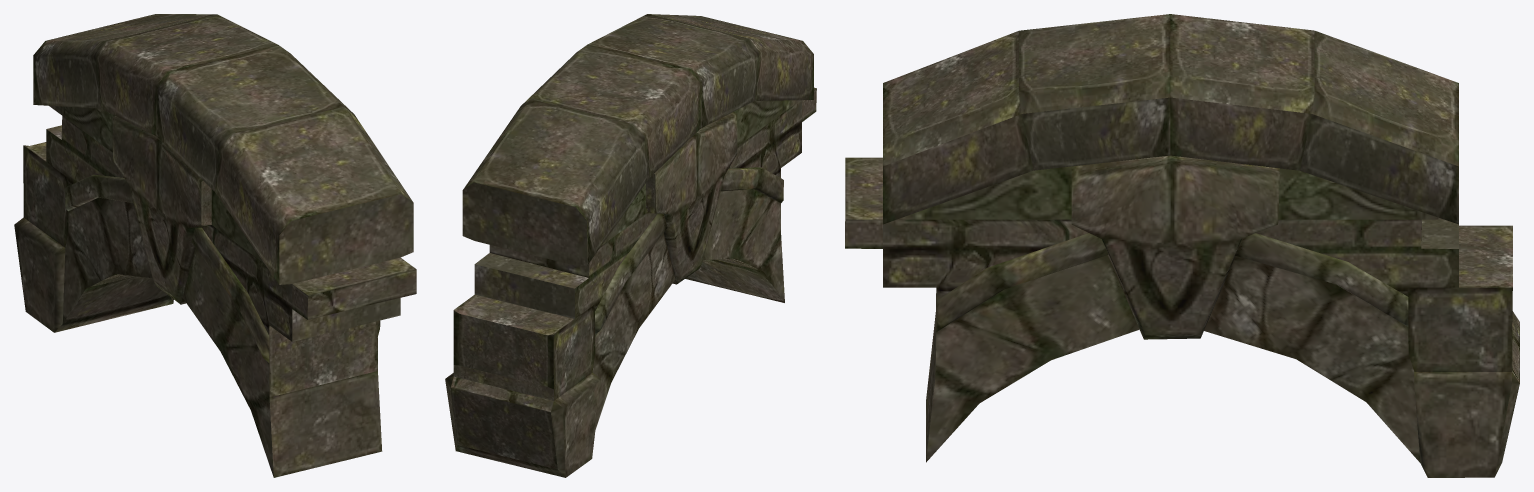
The model's file is Arch_Alley_09-transformed.glb.
3 renders of one model, left to right at view 1: azimuth 30°, elevation 25°; view 2: azimuth 150°, elevation 25°; view 3: azimuth 270°, elevation 25°, orthographic. The views are drawn at different scales.
Visible parts, largest first — view 1: default; view 2: default; view 3: default.
Boxes of the visible parts, x1=… form: default: x1=14, y1=14, x2=416, y2=477; default: x1=445, y1=14, x2=816, y2=477; default: x1=845, y1=14, x2=1519, y2=477.
Size of the model in its own units: 0.9473 by 2.29 by 3.51.
Materials: 1 (1 with a texture image).
